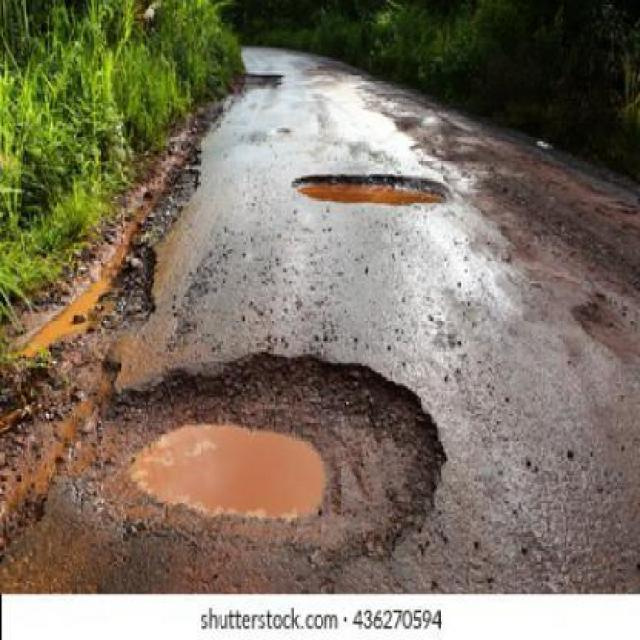Buraco: (72, 349, 449, 575), (290, 172, 453, 208)
